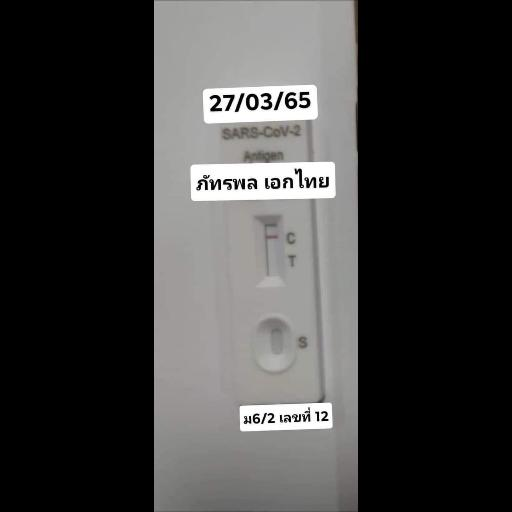Neg: (221, 119, 326, 404)
